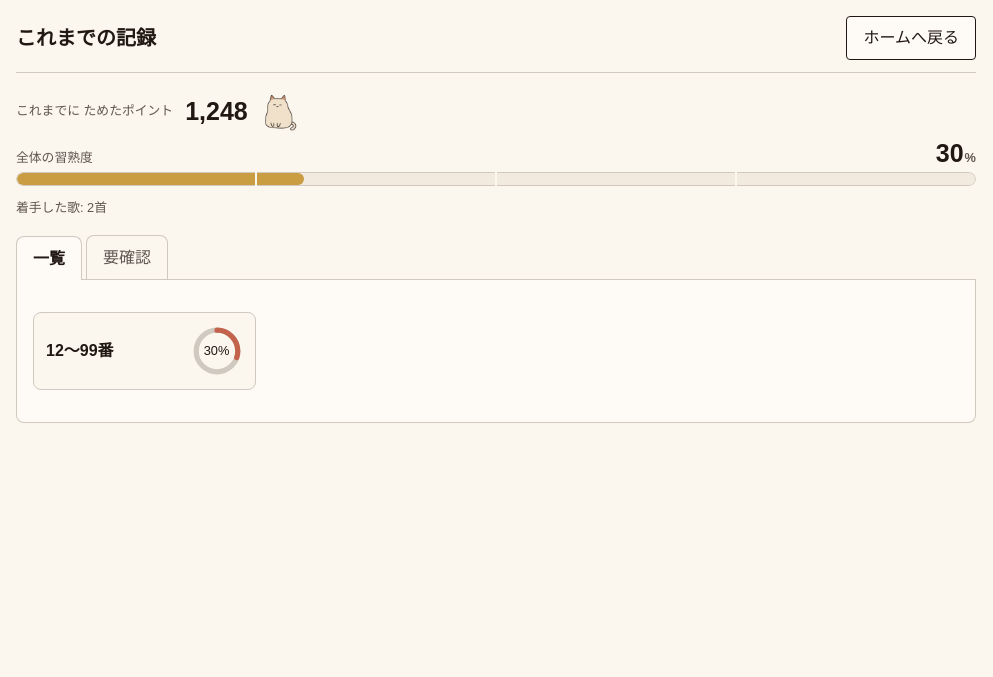
it: history: まとまりを開くと全首の記録を表示する
Step 1. Click the button with class "history-group" → coordinates (144, 351), box [33,312,256,390]
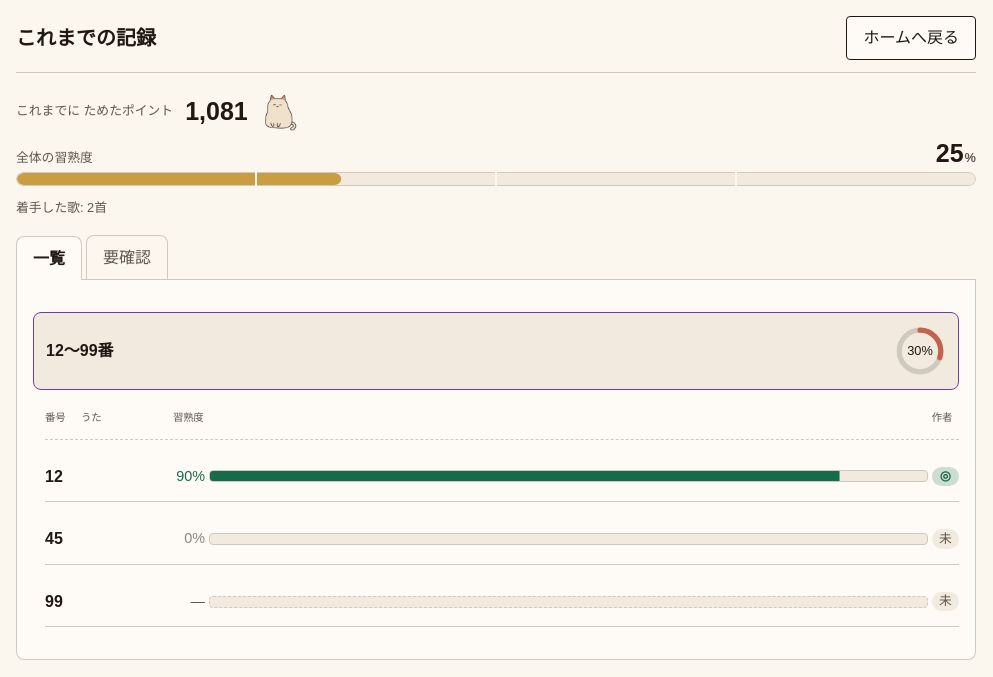
Now the list with class "history-list" shows "12", box [45,468,63,485]
Now the list with class "history-list" shows "45", box [45,530,63,547]
Now the list with class "history-list" shows "99", box [45,593,63,610]
